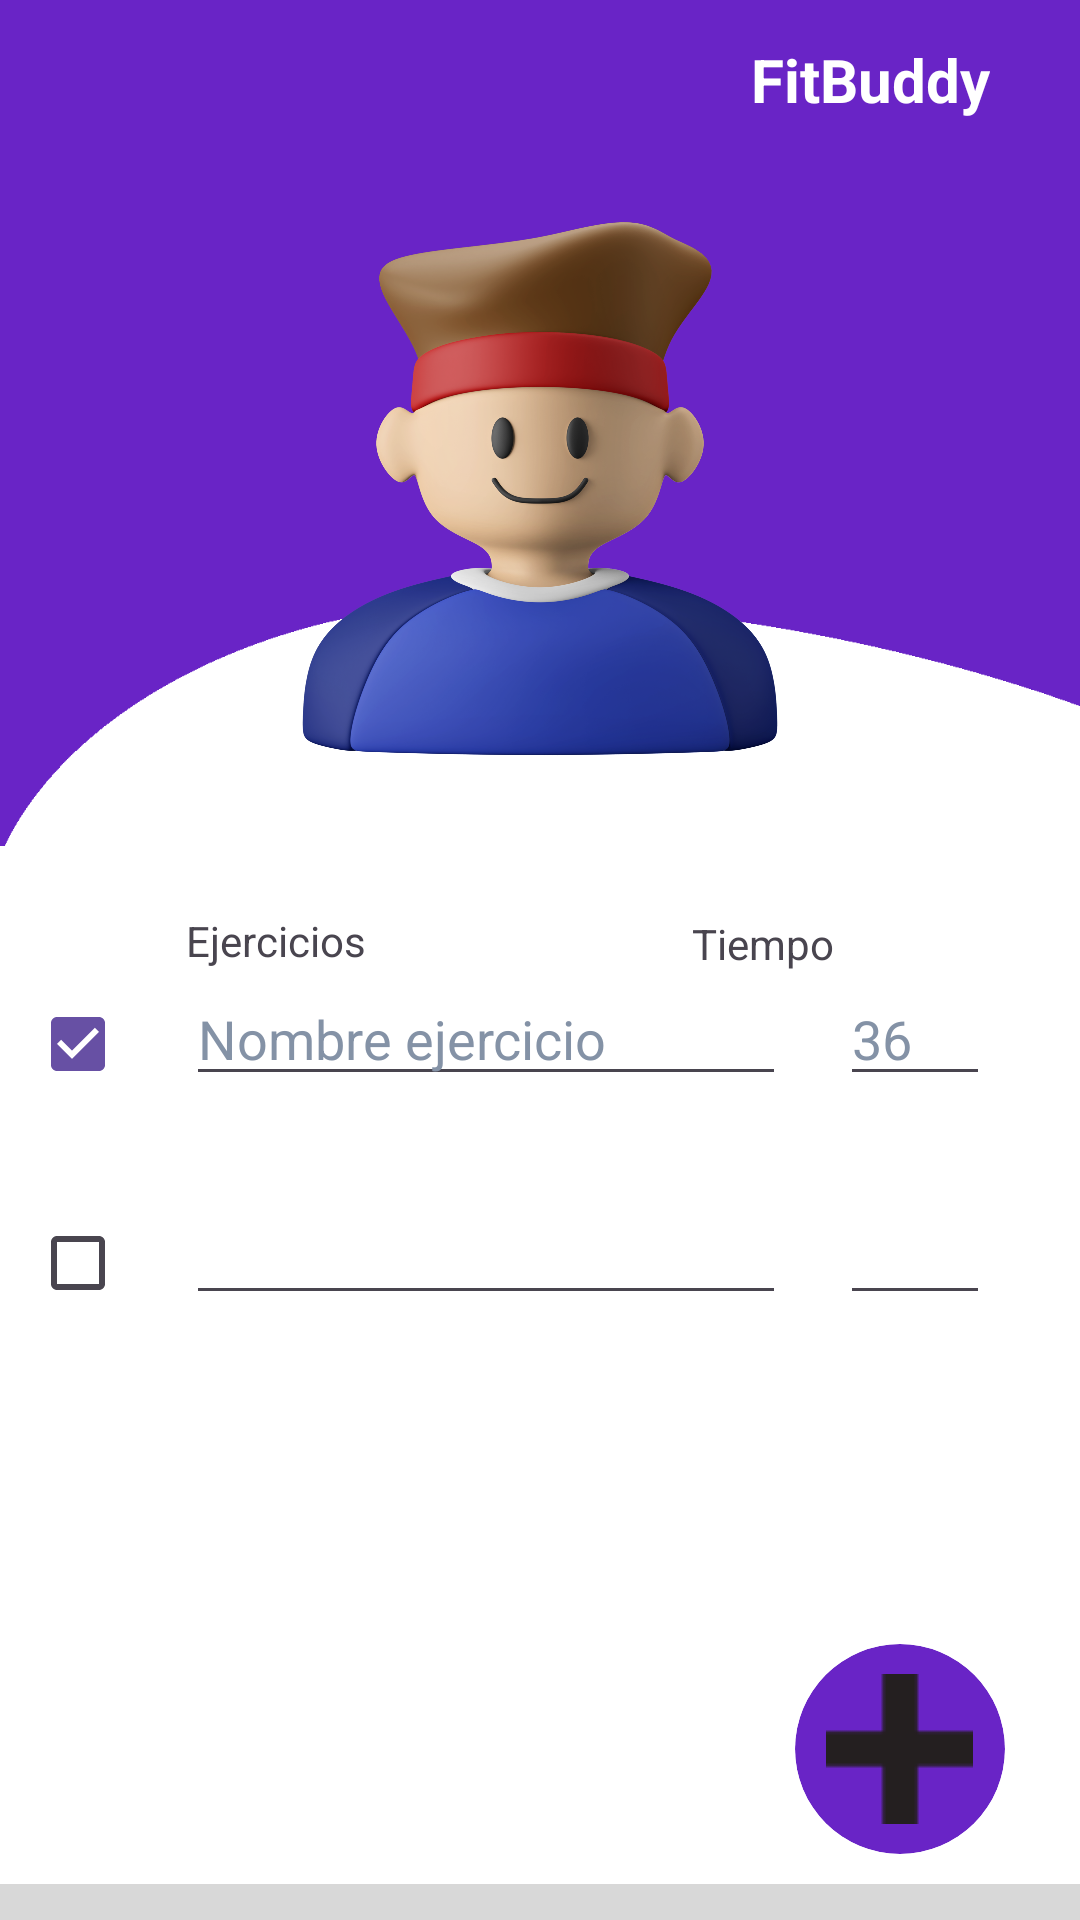

Icons on this 1080w x 1920h Android screen, each with the point to tap as (x,y):
agregar: (899,1749)
